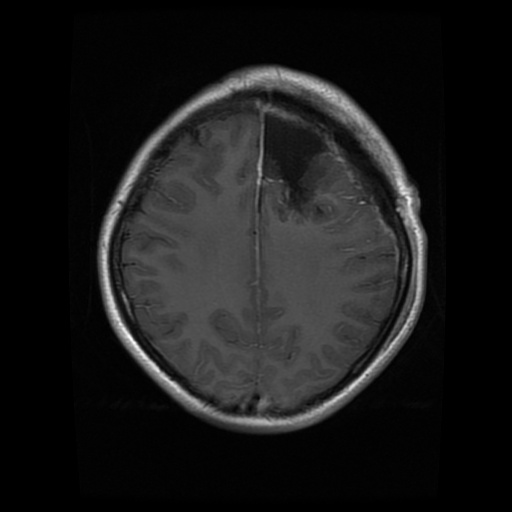glioma: (261, 112, 359, 225)
